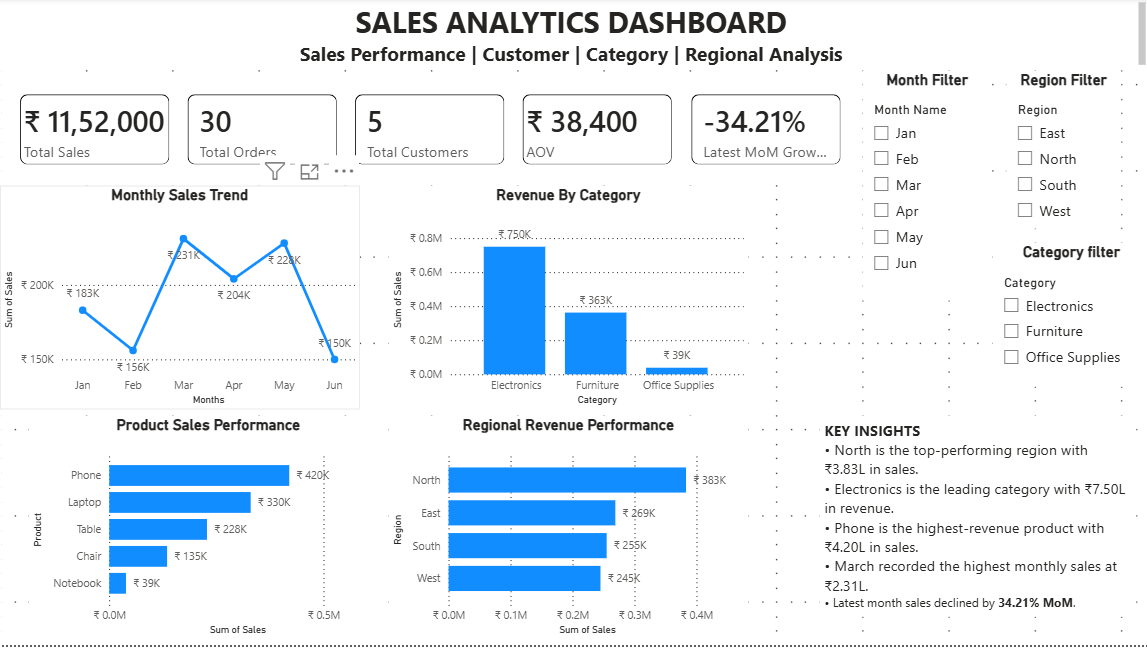

Layout of this report page (visuals, bound fields, positions):
{"tool":"powerbi","page":{"name":"Sales Analysis","canvas":[1280,720],"ordinal":0},"visuals":[{"type":"cardVisual","fields":{"Data":["sales_analytics orders.Total_Sales"]},"box":[6,90.4,200,112],"z":0},{"type":"cardVisual","fields":{"Data":["sales_analytics orders.Total Orders"]},"box":[192.5,90.4,200,112],"z":1000},{"type":"cardVisual","fields":{"Data":["sales_analytics orders.Total Customers"]},"box":[379,90.4,200,112],"z":2000},{"type":"cardVisual","fields":{"Data":["sales_analytics orders.Average Order Value"]},"box":[565.5,90.4,200,112],"z":3000},{"type":"lineChart","title":"Monthly Sales Trend","fields":{"Y":["Sum(sales_analytics orders.Sales)"],"Category":["DateTable.Month Name"]},"box":[0,208,400,250],"z":4000},{"type":"clusteredColumnChart","title":"Revenue By Category","fields":{"Y":["Sum(sales_analytics orders.Sales)"],"Category":["sales_analytics orders.Category"]},"box":[432,208,400,250],"z":5000},{"type":"barChart","title":"  Regional Revenue Performance","fields":{"Category":["sales_analytics orders.Region"],"Y":["Sum(sales_analytics orders.Sales)"]},"box":[432,464,400,250],"z":6000},{"type":"clusteredBarChart","title":" Product Sales Performance","fields":{"Category":["sales_analytics orders.Product"],"Y":["Sum(sales_analytics orders.Sales)"]},"box":[32,464,400,250],"z":8000},{"type":"slicer","title":"Region Filter","fields":{"Values":["sales_analytics orders.Region"]},"box":[1120,80,128,176],"z":9000},{"type":"slicer","title":"Category filter","fields":{"Values":["sales_analytics orders.Category"]},"box":[1104,272,176,160],"z":10000},{"type":"slicer","title":"OrderDate Filter","fields":{"Values":["DateTable.Month Name"]},"box":[960,80,144,256],"z":11000},{"type":"textbox","box":[0,0,1280,80],"z":12000},{"type":"textbox","box":[912,464,352,224],"z":13000},{"type":"cardVisual","fields":{"Data":["sales_analytics orders.Latest MoM Growth %"]},"box":[752,90.4,200,112],"z":13001}]}

Visuals, with their boxes in screenshot pixels (x1, y1, x2, y2), scaled from the page's 1280x720 canvas onto the 1147x649 screenshot:
cardVisual - sales_analytics orders.Total_Sales: {"left": 5, "top": 81, "right": 185, "bottom": 182}
cardVisual - sales_analytics orders.Total Orders: {"left": 172, "top": 81, "right": 352, "bottom": 182}
cardVisual - sales_analytics orders.Total Customers: {"left": 340, "top": 81, "right": 519, "bottom": 182}
cardVisual - sales_analytics orders.Average Order Value: {"left": 507, "top": 81, "right": 686, "bottom": 182}
"Monthly Sales Trend" lineChart: {"left": 0, "top": 187, "right": 358, "bottom": 413}
"Revenue By Category" clusteredColumnChart: {"left": 387, "top": 187, "right": 746, "bottom": 413}
"  Regional Revenue Performance" barChart: {"left": 387, "top": 418, "right": 746, "bottom": 644}
" Product Sales Performance" clusteredBarChart: {"left": 29, "top": 418, "right": 387, "bottom": 644}
"Region Filter" slicer: {"left": 1004, "top": 72, "right": 1118, "bottom": 231}
"Category filter" slicer: {"left": 989, "top": 245, "right": 1146, "bottom": 389}
"OrderDate Filter" slicer: {"left": 860, "top": 72, "right": 989, "bottom": 303}
textbox: {"left": 0, "top": 0, "right": 1146, "bottom": 72}
textbox: {"left": 817, "top": 418, "right": 1133, "bottom": 620}
cardVisual - sales_analytics orders.Latest MoM Growth %: {"left": 674, "top": 81, "right": 853, "bottom": 182}
